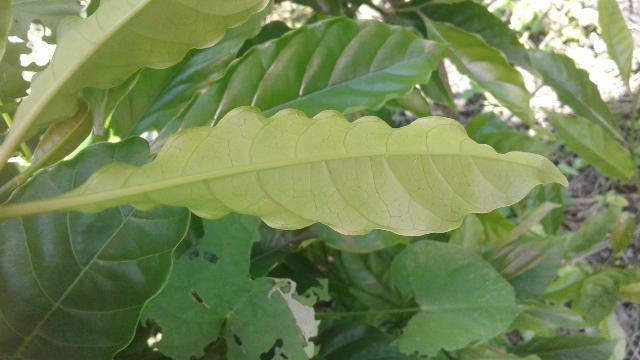healthy: (35, 101, 578, 237)
